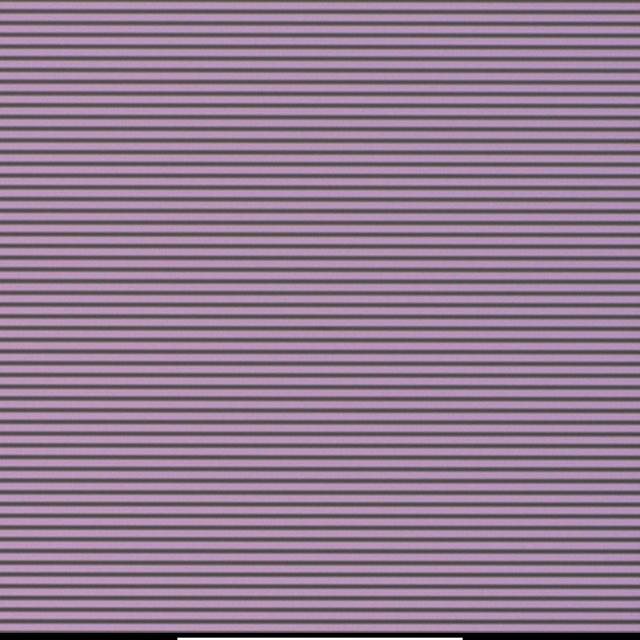03_intrusion: (316, 313, 326, 322)
